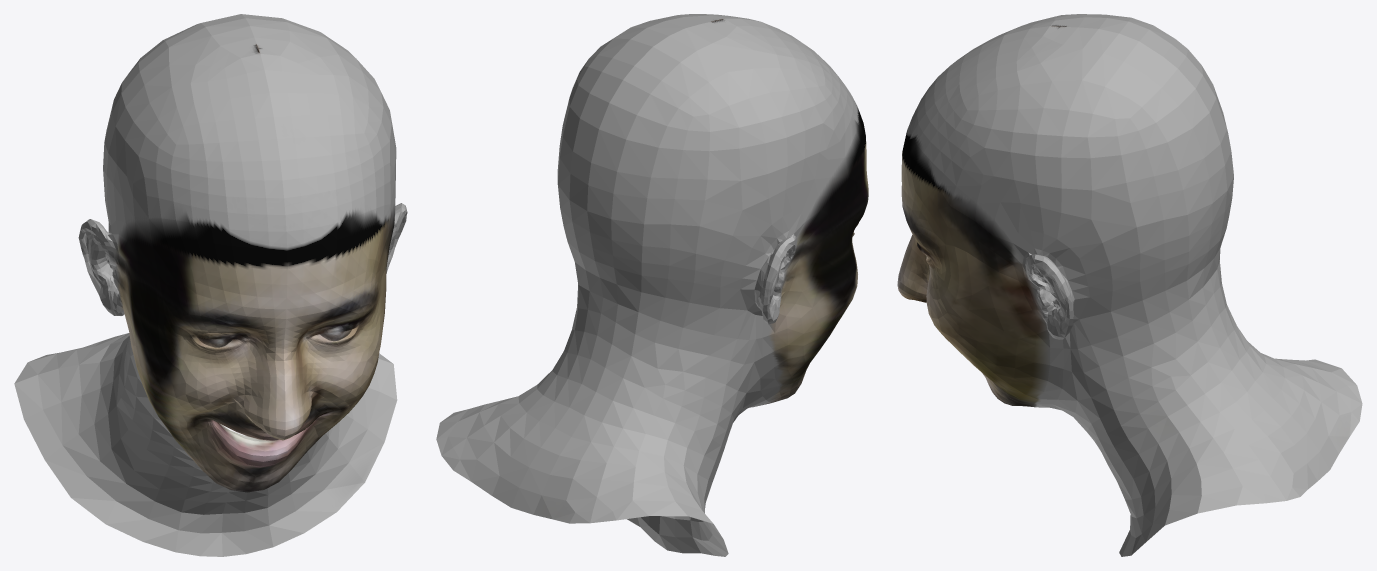
The model's file is ezgif-frame-079.obj.
3 views of the same model, side by side, from view 1: azimuth 30°, elevation 25°; view 2: azimuth 150°, elevation 25°; view 3: azimuth 270°, elevation 25° (orthographic). The views are drawn at different scales.
Size of the model in its own units: 0.209 by 0.3257 by 0.2698.
1 material, 1 textured.
